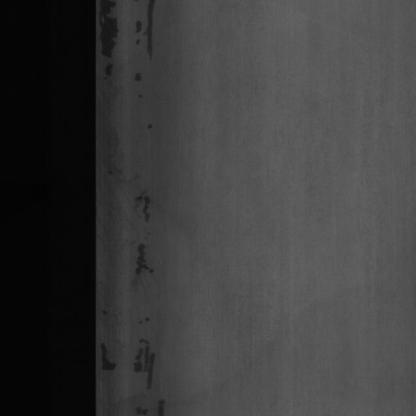oil_spot: (132, 2, 157, 100), (128, 189, 153, 286), (98, 2, 120, 82), (132, 335, 160, 390), (129, 398, 167, 416), (99, 337, 115, 373)
